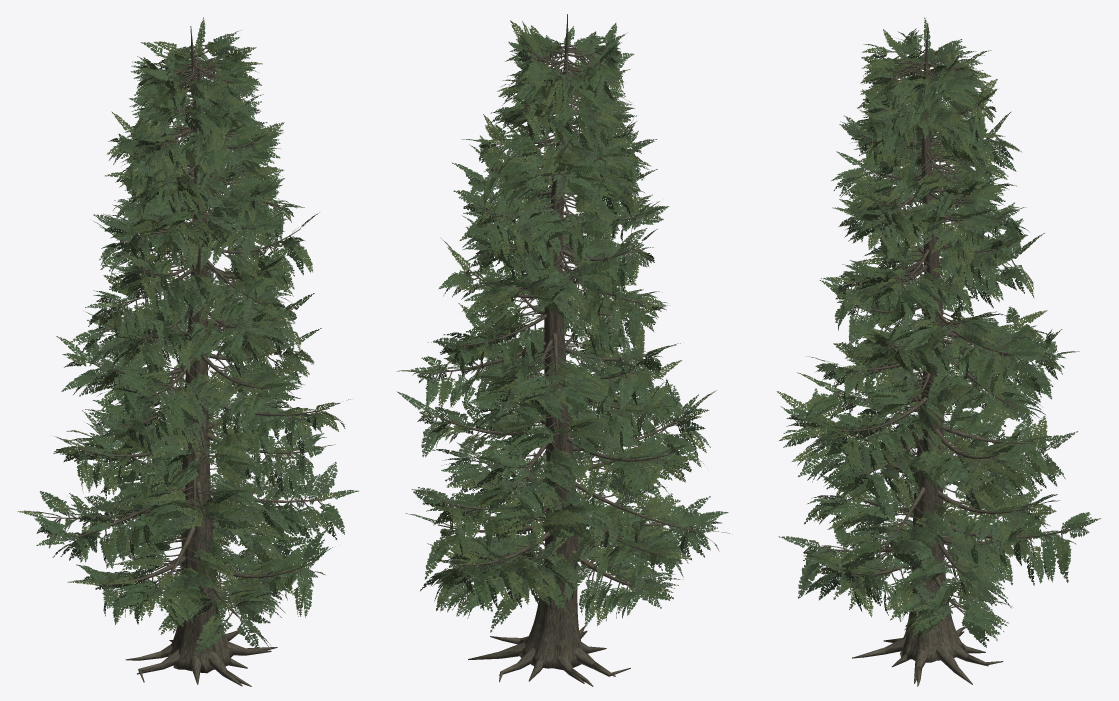
File: FOREST_Spruce_A_LOD0.fbx
3 views of the same model, side by side, from view 1: azimuth 30°, elevation 25°; view 2: azimuth 150°, elevation 25°; view 3: azimuth 270°, elevation 25° (orthographic). The views are drawn at different scales.
Parts seen in each view (by area): view 1: SPRUCE_A_Needles_LOD0, SPRUCE_A_Wood_LOD0; view 2: SPRUCE_A_Needles_LOD0, SPRUCE_A_Wood_LOD0; view 3: SPRUCE_A_Needles_LOD0, SPRUCE_A_Wood_LOD0.
Boxes of the visible parts, x1,y1,x2,y2 form: SPRUCE_A_Needles_LOD0: (17, 17, 358, 654); SPRUCE_A_Wood_LOD0: (45, 26, 331, 686); SPRUCE_A_Needles_LOD0: (396, 20, 732, 632); SPRUCE_A_Wood_LOD0: (422, 14, 701, 686); SPRUCE_A_Needles_LOD0: (776, 17, 1100, 647); SPRUCE_A_Wood_LOD0: (800, 23, 1077, 686).
Bounding box in the file's own units: 6.12 × 11.9 × 5.78.
